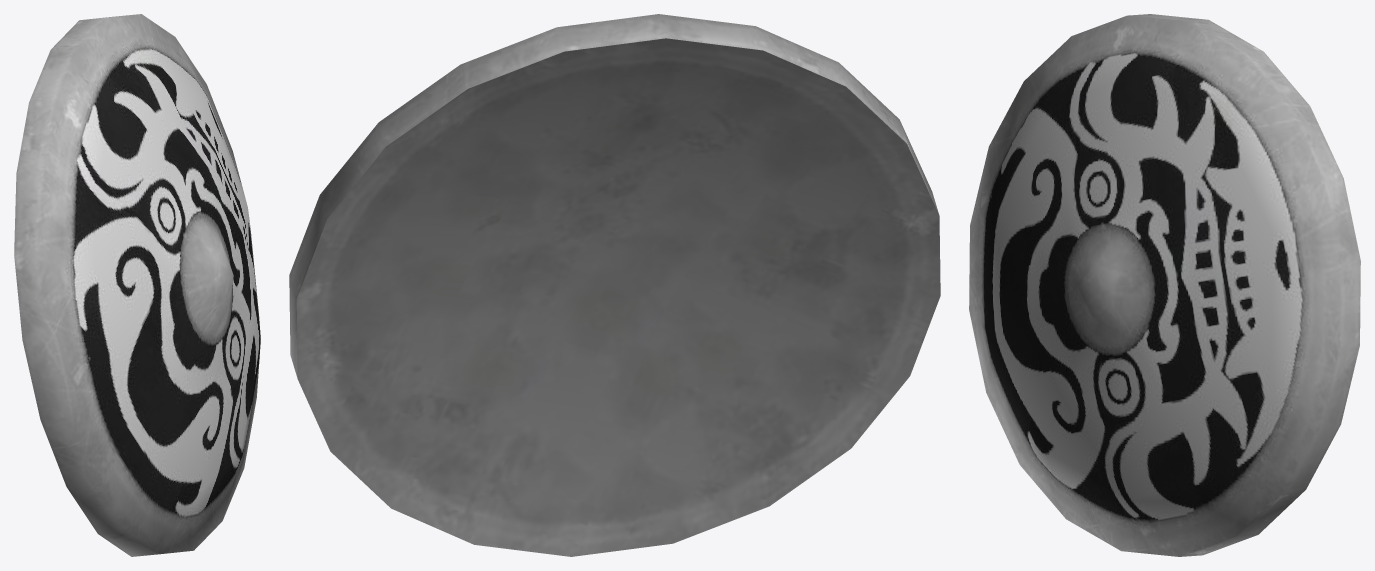
Rendered from shield-base.glb.
3 views of the same model, side by side, from view 1: azimuth 30°, elevation 25°; view 2: azimuth 150°, elevation 25°; view 3: azimuth 270°, elevation 25° (orthographic). The views are drawn at different scales.
Size of the model in its own units: 0.3797 by 0.461 by 0.3387.
1 material, 1 textured.
